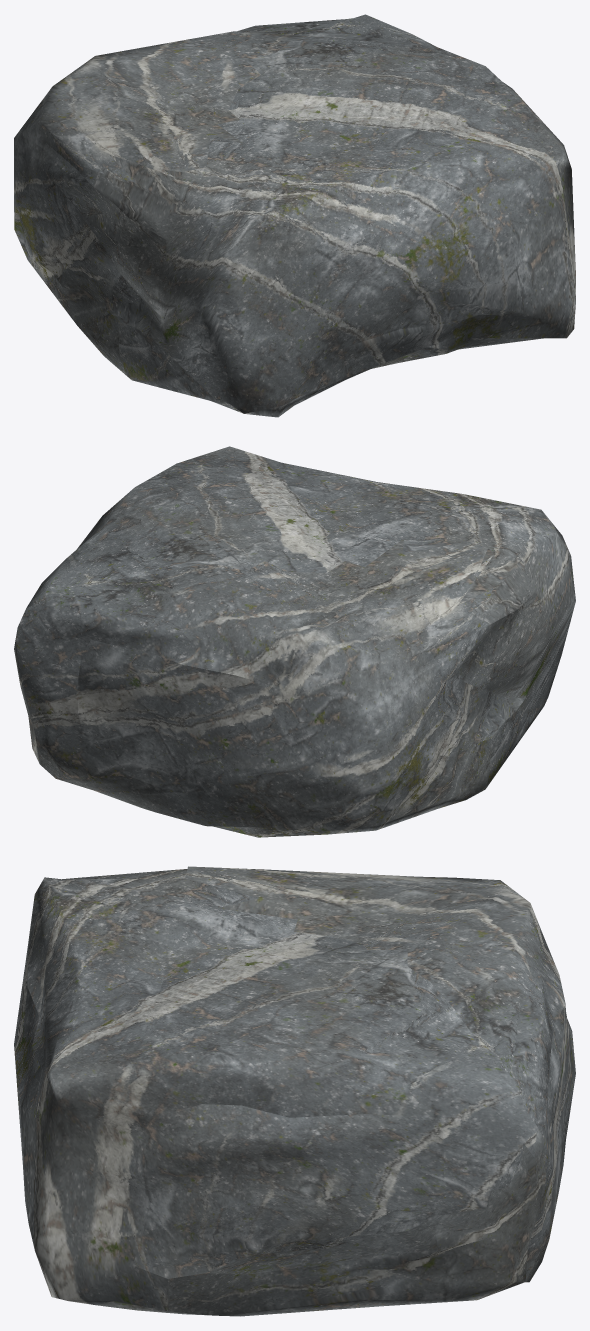
The model's file is SM_StoneBrick_A_01.fbx.
3 views of the same model, one above another, from view 1: azimuth 30°, elevation 25°; view 2: azimuth 150°, elevation 25°; view 3: azimuth 270°, elevation 25° (orthographic). The views are drawn at different scales.
Visible parts, largest first — view 1: SM_StoneBrick_A_01_LOD0; view 2: SM_StoneBrick_A_01_LOD0; view 3: SM_StoneBrick_A_01_LOD0.
Part boxes in pixels (<box>): SM_StoneBrick_A_01_LOD0: <box>14,14,575,417</box>; SM_StoneBrick_A_01_LOD0: <box>14,446,575,837</box>; SM_StoneBrick_A_01_LOD0: <box>14,866,575,1316</box>.
Size of the model in its own units: 111 by 111 by 64.82.
